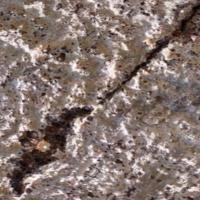crack: (7, 9, 199, 185)
